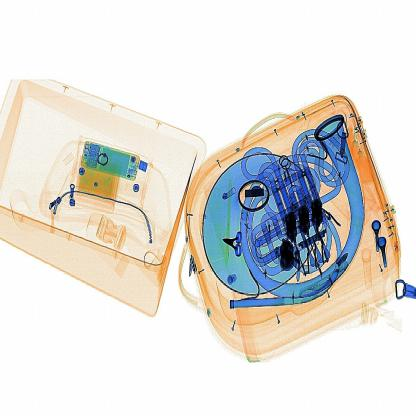gun: (213, 225, 254, 268)
